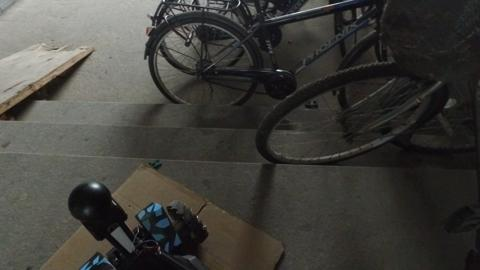bike: (147, 1, 376, 97)
chariot: (63, 177, 206, 270)
